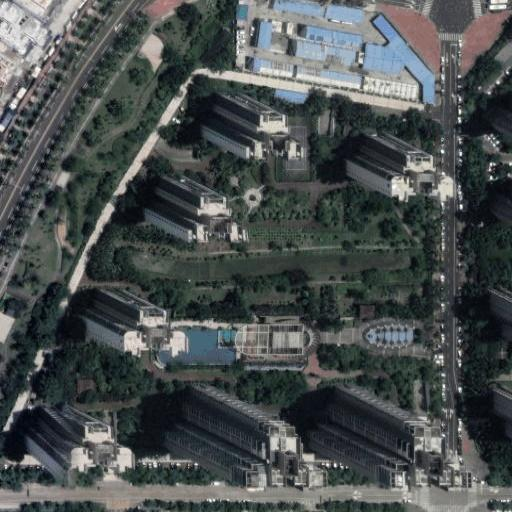building: (167, 389, 260, 460), (317, 391, 402, 460), (148, 319, 241, 361), (77, 293, 148, 345), (344, 127, 412, 181), (32, 409, 99, 462), (141, 177, 206, 229), (197, 93, 262, 145), (396, 41, 435, 87), (0, 0, 32, 56), (271, 114, 306, 163), (294, 65, 361, 90), (292, 40, 356, 66), (305, 25, 364, 49), (362, 42, 406, 74), (359, 76, 417, 100), (483, 284, 512, 330), (371, 11, 405, 50), (488, 387, 512, 438), (487, 175, 512, 216), (488, 89, 512, 131), (263, 84, 307, 106), (251, 58, 296, 78), (274, 0, 324, 17), (327, 2, 362, 24), (258, 19, 272, 48), (318, 111, 333, 135), (422, 86, 437, 105), (235, 2, 248, 19), (360, 306, 374, 318)
